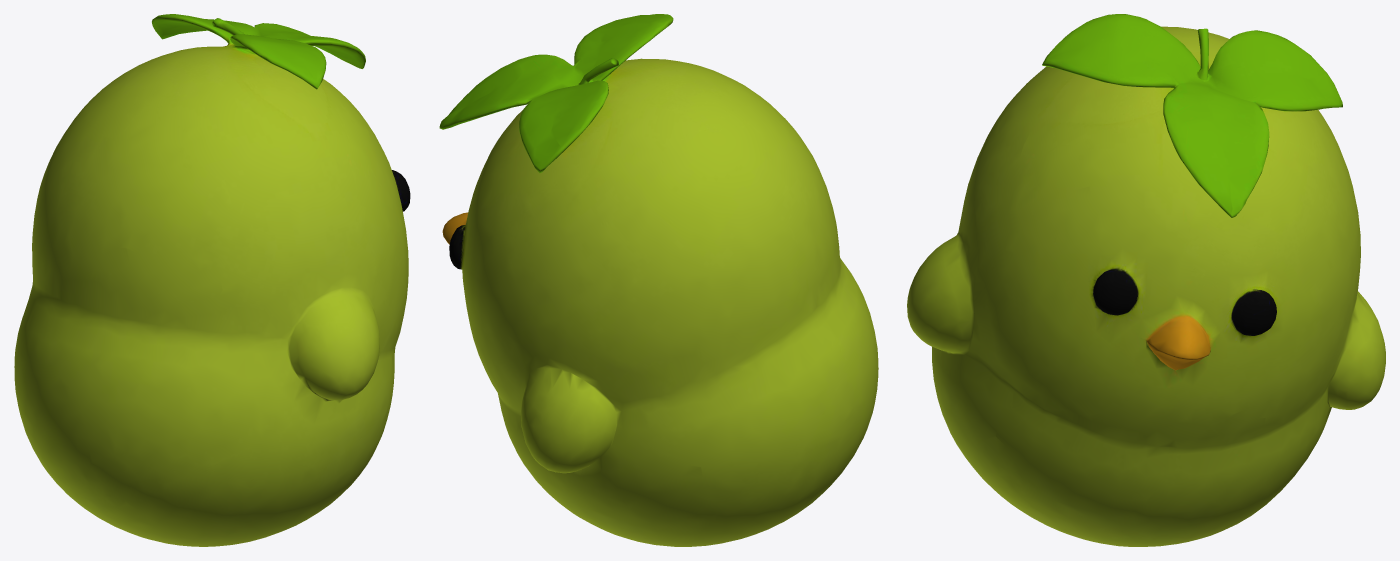
File: green+chick+3d+model.fbx
The picture shows the model from 3 angles, left to right: view 1: azimuth 30°, elevation 25°; view 2: azimuth 150°, elevation 25°; view 3: azimuth 270°, elevation 25°; orthographic projection. The views are drawn at different scales.
Visible parts, largest first — view 1: tripo_node_ccf212f0; view 2: tripo_node_ccf212f0; view 3: tripo_node_ccf212f0.
Part boxes in pixels (x1,y1,x2,y2): tripo_node_ccf212f0: (14,14,410,546); tripo_node_ccf212f0: (439,14,878,546); tripo_node_ccf212f0: (907,14,1385,546).
Bounding box in the file's own units: 0.8307 × 1 × 0.8225.
1 material, 1 textured.
